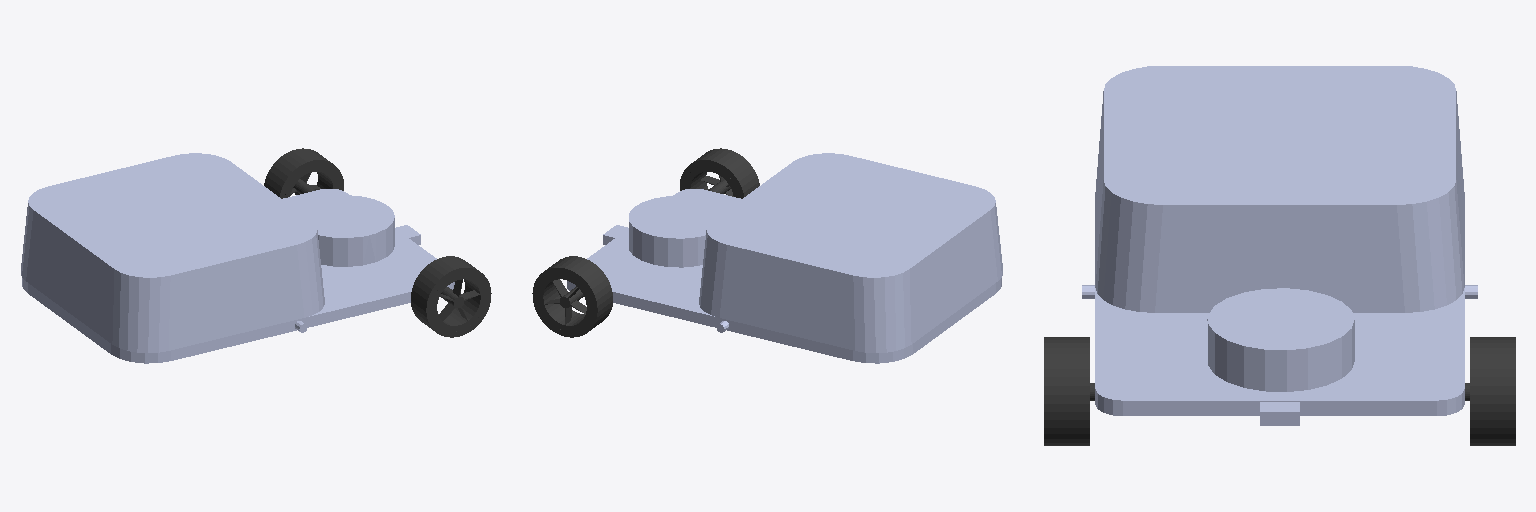
robot.urdf — test1:
<?xml version="1.0" encoding="utf-8"?>
<!-- This URDF was automatically created by SolidWorks to URDF Exporter! Originally created by [author] ([email redacted]) 
     Commit Version: 1.6.0-4-g7f85cfe  Build Version: 1.6.7995.38578
     For more information, please see http://wiki.ros.org/sw_urdf_exporter -->
<robot
  name="test1">
  <link
    name="base_link">
    <inertial>
      <origin
        xyz="-0.0519027671846018 2.76450743744994E-05 0.0312601129481961"
        rpy="0 0 0" />
      <mass
        value="3.12503740346226" />
      <inertia
        ixx="0.0101802209294379"
        ixy="-8.32731972476595E-06"
        ixz="-0.000407868204595875"
        iyy="0.0140826384459327"
        iyz="-1.47425502690855E-06"
        izz="0.0225402056092829" />
    </inertial>
    <visual>
      <origin
        xyz="0 0 0"
        rpy="0 0 0" />
      <geometry>
        <mesh
          filename="package://test1/meshes/base_link.STL" />
      </geometry>
      <material
        name="">
        <color
          rgba="0.792156862745098 0.819607843137255 0.933333333333333 1" />
      </material>
    </visual>
    <collision>
      <origin
        xyz="0 0 0"
        rpy="0 0 0" />
      <geometry>
        <mesh
          filename="package://test1/meshes/base_link.STL" />
      </geometry>
    </collision>
  </link>
  <link
    name="left_wheel">
    <inertial>
      <origin
        xyz="0.119946222993201 0.11719810764311 0.00492452660000083"
        rpy="0 0 0" />
      <mass
        value="0.0154842443751589" />
      <inertia
        ixx="6.32949606004192E-06"
        ixy="8.69473528422328E-22"
        ixz="-1.21482656204631E-22"
        iyy="1.06002362306982E-05"
        iyz="2.97220821896916E-20"
        izz="6.32949606004192E-06" />
    </inertial>
    <visual>
      <origin
        xyz="0 0 0"
        rpy="0 0 0" />
      <geometry>
        <mesh
          filename="package://test1/meshes/left_wheel.STL" />
      </geometry>
      <material
        name="">
        <color
          rgba="0.294117647058824 0.294117647058824 0.294117647058824 1" />
      </material>
    </visual>
    <collision>
      <origin
        xyz="0 0 0"
        rpy="0 0 0" />
      <geometry>
        <mesh
          filename="package://test1/meshes/left_wheel.STL" />
      </geometry>
    </collision>
  </link>
  <joint
    name="left_wheeljoint"
    type="continuous">
    <origin
      xyz="0 0 0"
      rpy="0 0 0" />
    <parent
      link="base_link" />
    <child
      link="left_wheel" />
    <axis
      xyz="0 1 0" />
  </joint>
  <link
    name="right_wheel">
    <inertial>
      <origin
        xyz="0.119946229458579 -0.11719810764311 0.00492452483658394"
        rpy="0 0 0" />
      <mass
        value="0.0154842443751589" />
      <inertia
        ixx="6.32949606004192E-06"
        ixy="2.21879600330863E-21"
        ixz="-1.29311335702827E-22"
        iyy="1.06002362306982E-05"
        iyz="3.01691294818185E-20"
        izz="6.32949606004192E-06" />
    </inertial>
    <visual>
      <origin
        xyz="0 0 0"
        rpy="0 0 0" />
      <geometry>
        <mesh
          filename="package://test1/meshes/right_wheel.STL" />
      </geometry>
      <material
        name="">
        <color
          rgba="0.294117647058824 0.294117647058824 0.294117647058824 1" />
      </material>
    </visual>
    <collision>
      <origin
        xyz="0 0 0"
        rpy="0 0 0" />
      <geometry>
        <mesh
          filename="package://test1/meshes/right_wheel.STL" />
      </geometry>
    </collision>
  </link>
  <joint
    name="right_wheeljoint"
    type="continuous">
    <origin
      xyz="0 0 0"
      rpy="0 0 0" />
    <parent
      link="base_link" />
    <child
      link="right_wheel" />
    <axis
      xyz="0 -1 0" />
  </joint>
</robot>

--- Render facts (derived) ---
Views: 3 orthographic renders of the robot side by side, from view 1: azimuth 30°, elevation 25°; view 2: azimuth 150°, elevation 25°; view 3: azimuth 270°, elevation 25°.
Model test1 with 3 links and 2 joints (2 continuous), rooted at base_link, posed all joints at 0.
Links seen in each view (by area): view 1: base_link, right_wheel, left_wheel; view 2: base_link, left_wheel, right_wheel; view 3: base_link, left_wheel, right_wheel.
Boxes of the visible links, <box> form: base_link: <box>21,153,454,363</box>; right_wheel: <box>411,256,491,337</box>; left_wheel: <box>264,148,343,198</box>; base_link: <box>567,153,1002,363</box>; left_wheel: <box>532,256,612,337</box>; right_wheel: <box>680,148,759,198</box>; base_link: <box>1082,66,1477,425</box>; left_wheel: <box>1465,337,1515,445</box>; right_wheel: <box>1044,337,1094,445</box>.
Bounding box of the posed robot: 0.3175 × 0.2594 × 0.1062 m (x, y, z).
3 mesh visuals loaded from 3 distinct referenced files (3 binary STL).